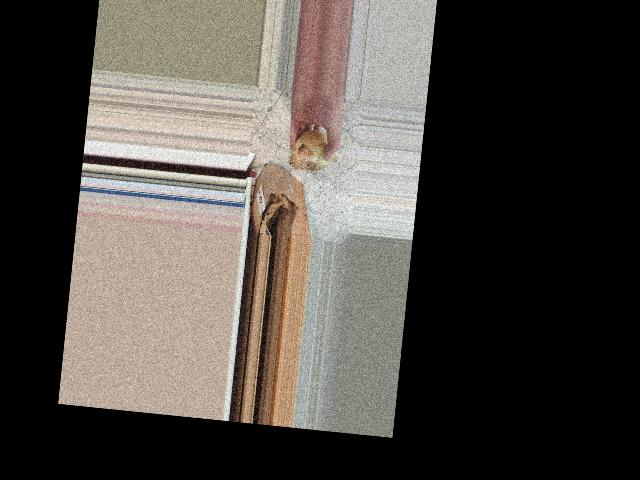onion: (288, 125, 337, 177)
